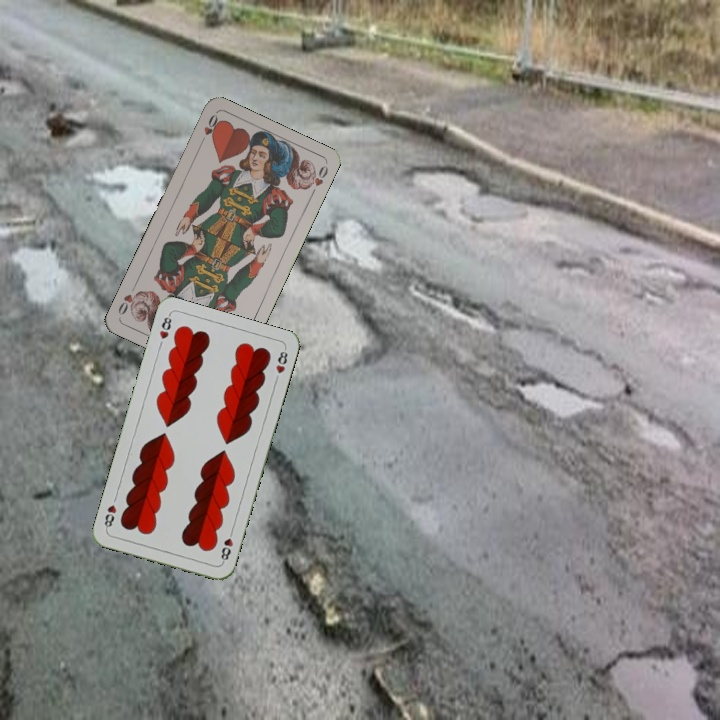H8: (155, 311, 174, 351), (217, 526, 236, 565)
HO: (196, 110, 222, 148)
